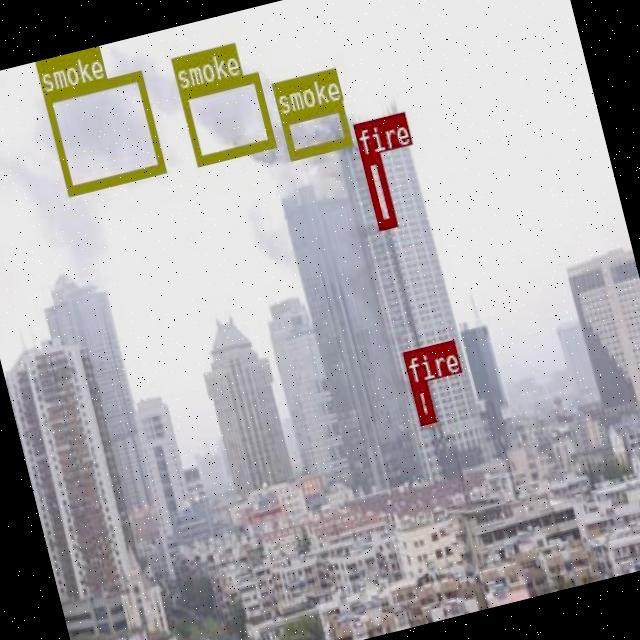fire: (360, 152, 395, 228), (409, 379, 434, 424)
smoke: (41, 70, 164, 194), (177, 71, 274, 164), (278, 99, 350, 159)
